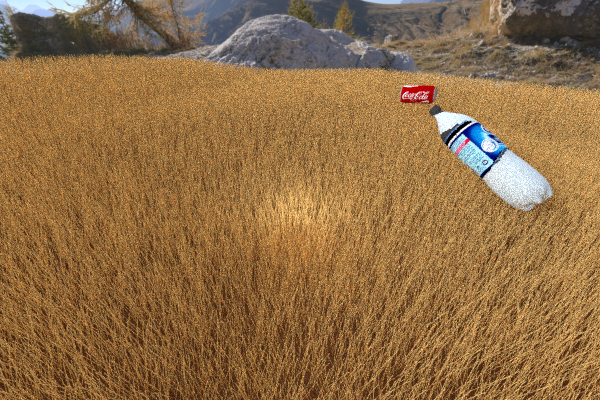Plastic Bottle: (432, 105, 558, 213), (329, 125, 378, 188), (202, 101, 255, 128)
